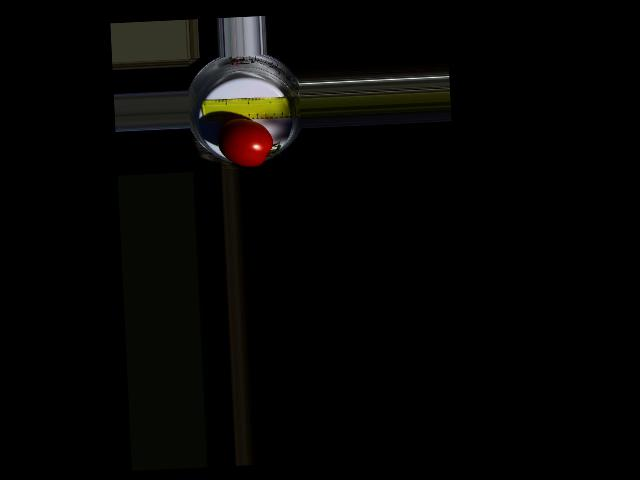tomato: (217, 116, 274, 168)
